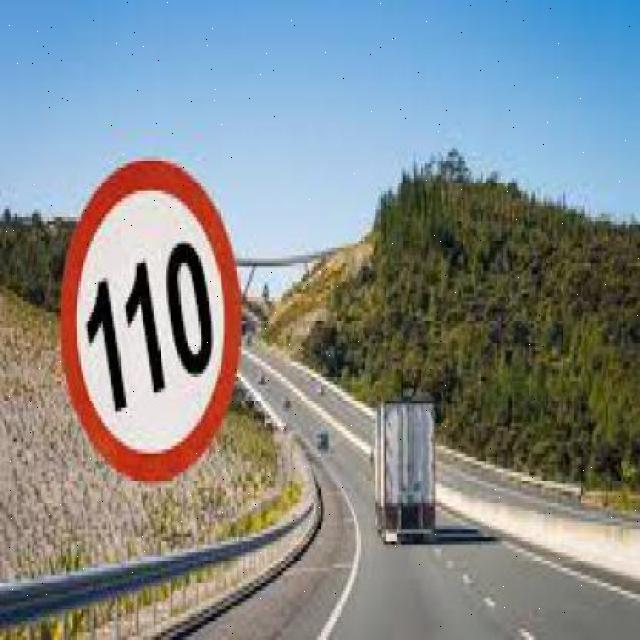speed limit 110: (60, 155, 240, 482)
